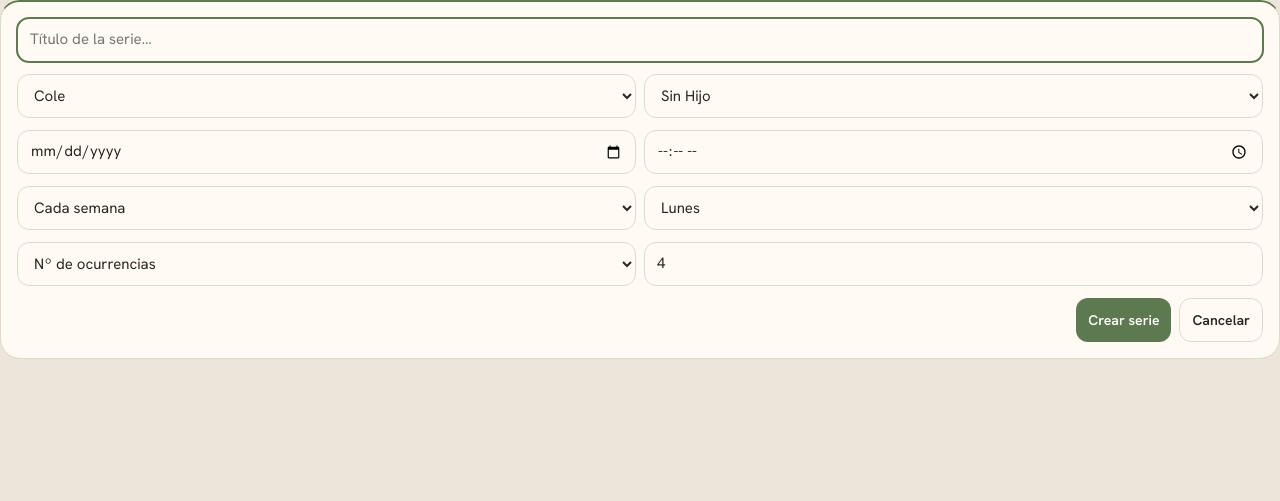
Test: SeriesForm — preview de ocurrencias › monthly no exige día de la semana y acota por ends_at
Step 1. Type "Pago" into the field labelled "Título" → (640,40), box [17,18,1263,62]
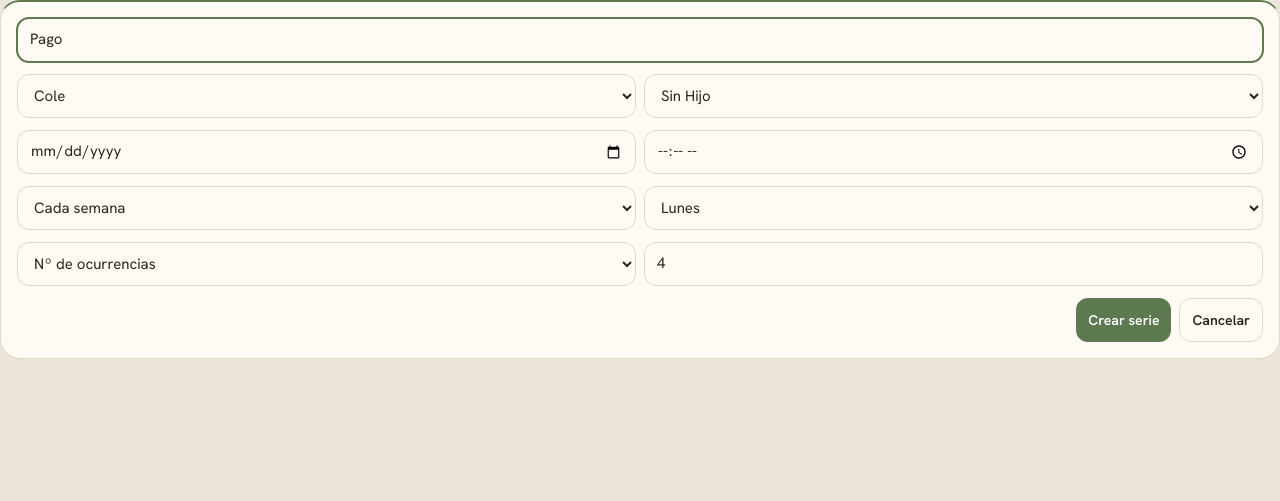
Step 2. Type "2030-01-31" into the date field named "Comienza el" → (326,152), box [17,130,636,174]
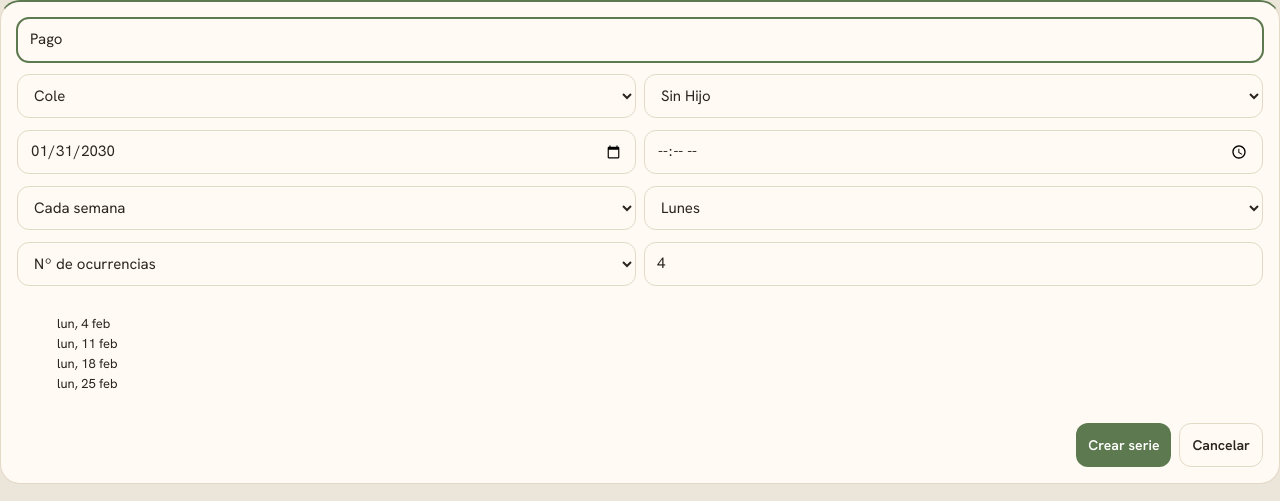
Step 3. Select "Cada mes" in the dropdown named "Repetir" → (326,208), box [17,186,636,230]
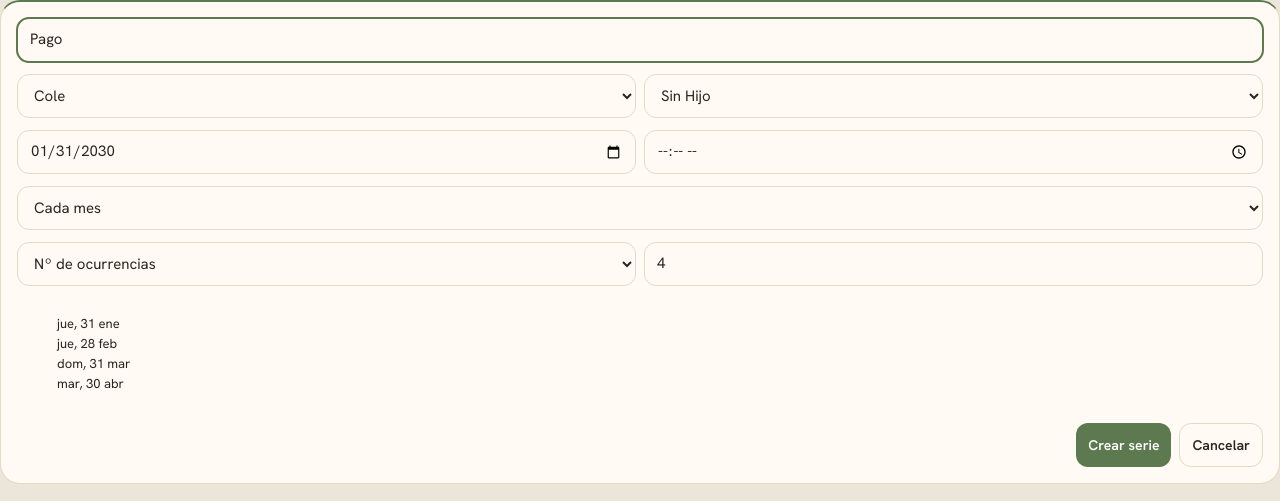
Step 4. Select "Hasta una fecha" in the dropdown named "Termina" → (326,264), box [17,242,636,286]
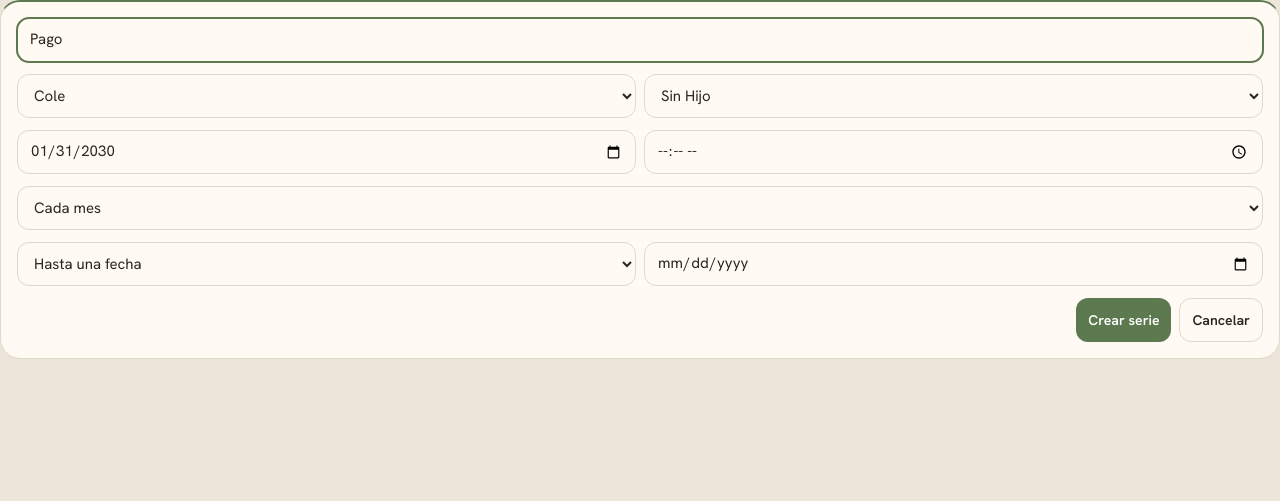
Step 5. Type "2030-03-31" into the date field named "Hasta" → (954,264), box [644,242,1263,286]
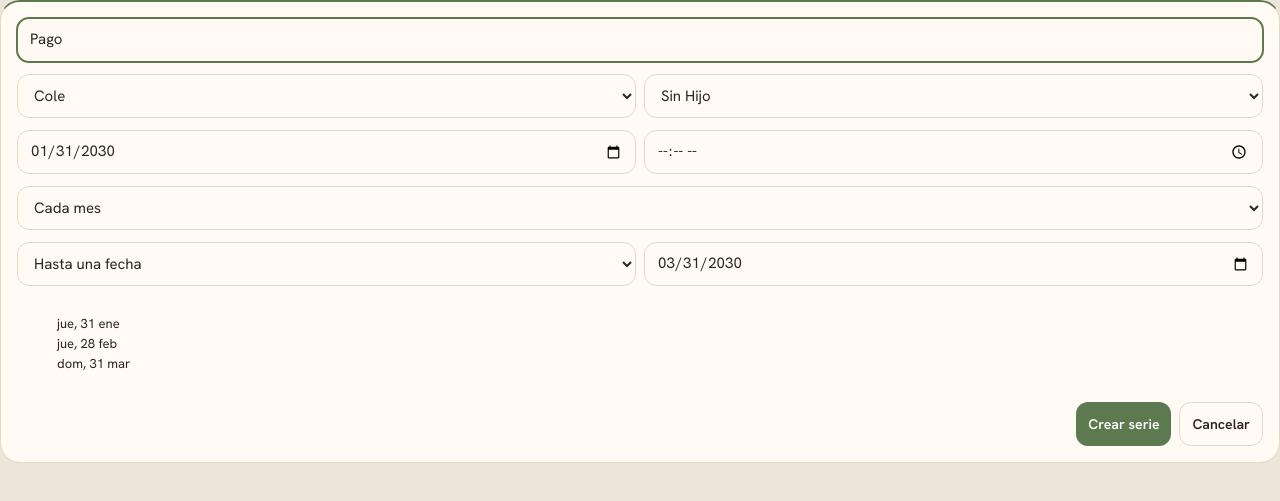
Now the number of list items is 3, box [57,315,120,332]; [57,335,117,352]; [57,355,130,372]
Now the list item "jue, 31 ene" is shown, box [57,315,120,332]
Now the list item "jue, 28 feb" is shown, box [57,335,117,352]
